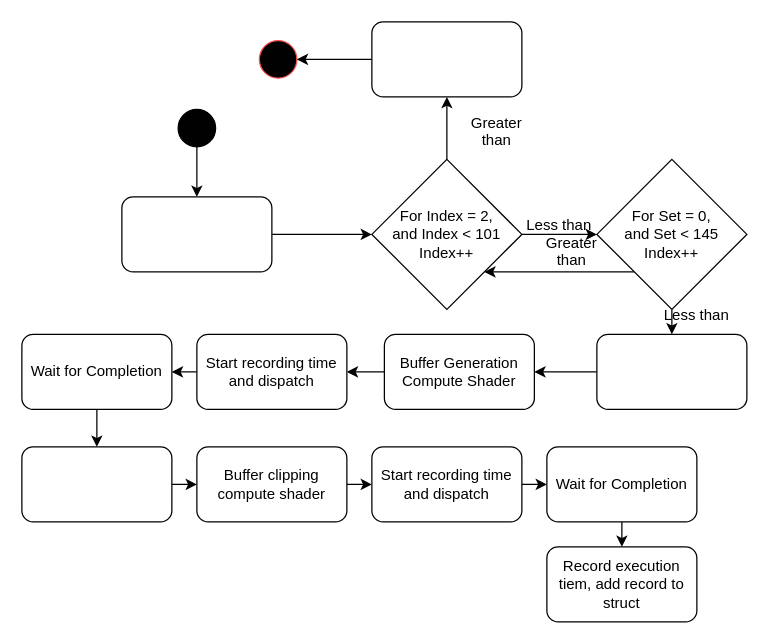
Image size: 769x644. Some labels were removed from this diagram. Each missing label, with the centre of its shape:
"Load point set" belongs at [671,371].
"Pre-process mesh, and set up compute shaders" belongs at [196,234].
"Record exection time" belongs at [96,484].
"Save data record, and clean up buffers" belongs at [446,59].
